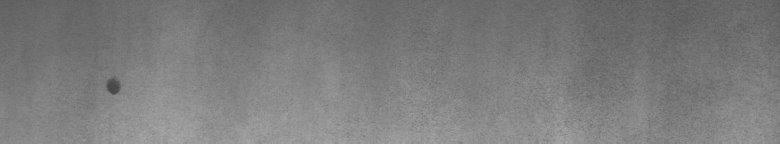fi: (100, 72, 125, 100)
